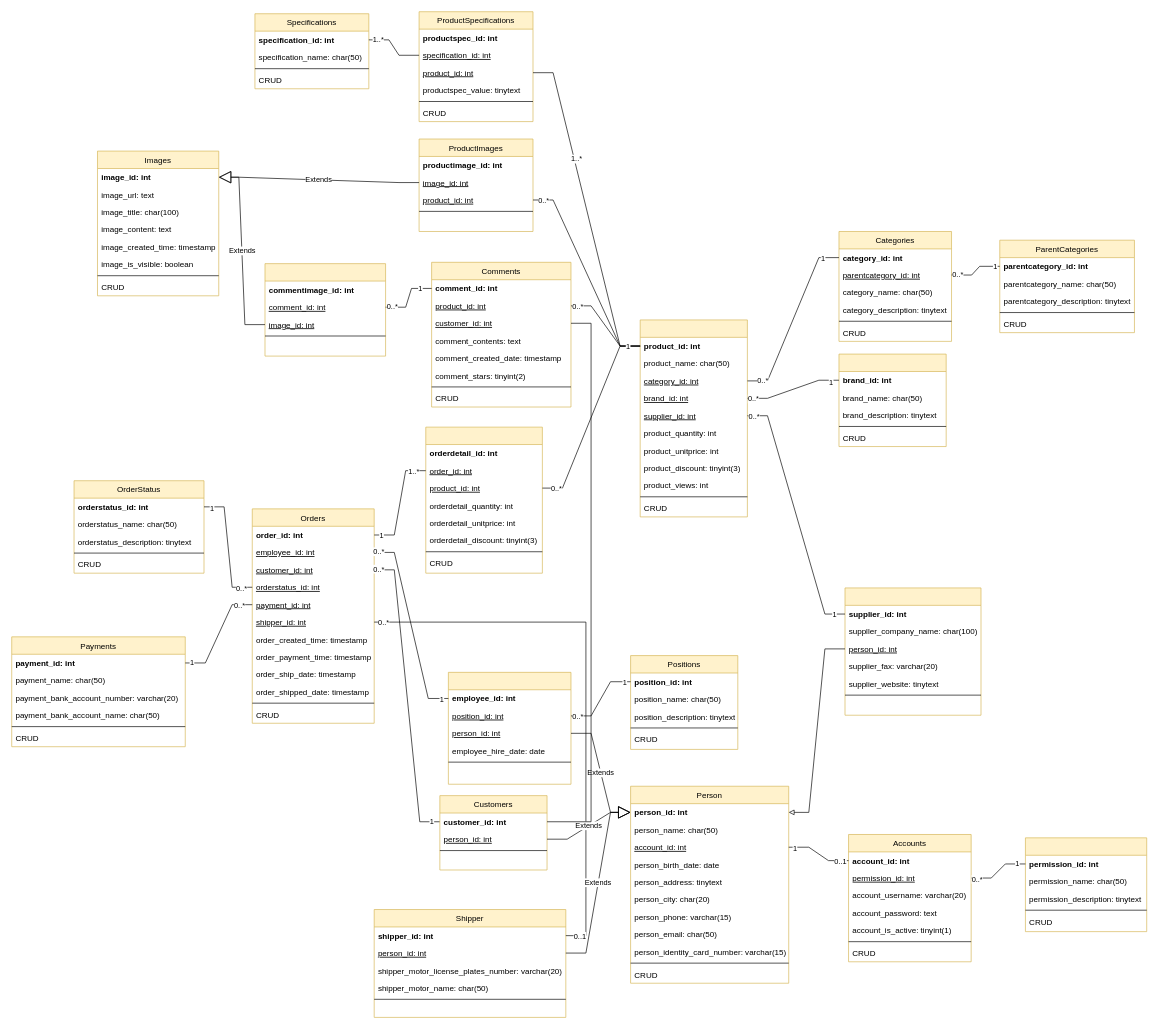
Image size: 1158x1029. Some labels were removed from this diagram. The box of each missing label's shape, as (x1, y1, x2, y2) in pixels:
Brands: (838, 353, 946, 447)
CommentImages: (264, 263, 386, 356)
Employees: (448, 672, 571, 784)
OrderDetails: (425, 426, 542, 573)
Permissions: (1025, 837, 1147, 932)
Products: (640, 319, 747, 517)
Suppliers: (844, 587, 981, 715)
